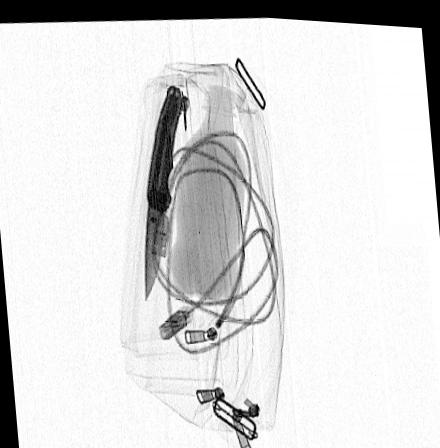Knife: (142, 80, 183, 299)
